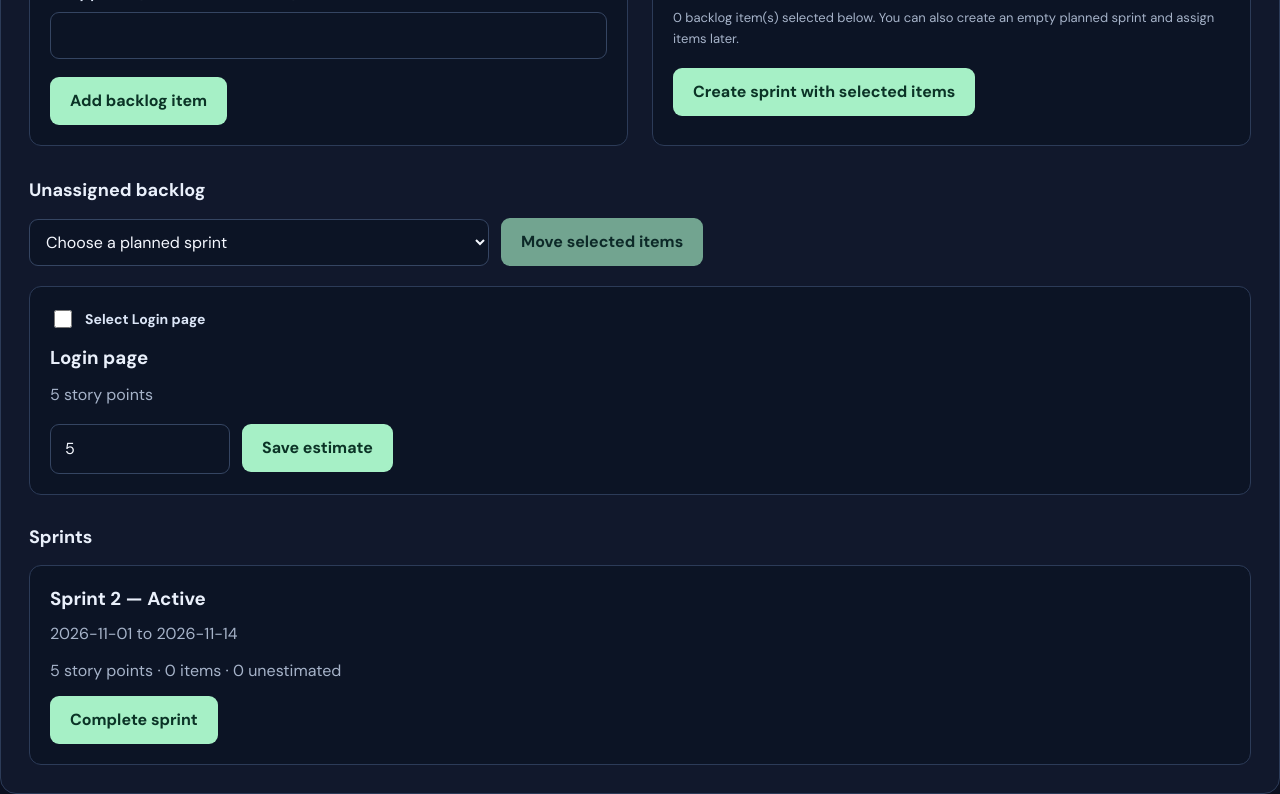
completes an active sprint after confirmation and refreshes its frozen total
The width and height of the screenshot is (1280, 794).
(page scrolled)
Click the button "Complete sprint": (134, 720) [50, 696, 218, 744]
(page scrolled)
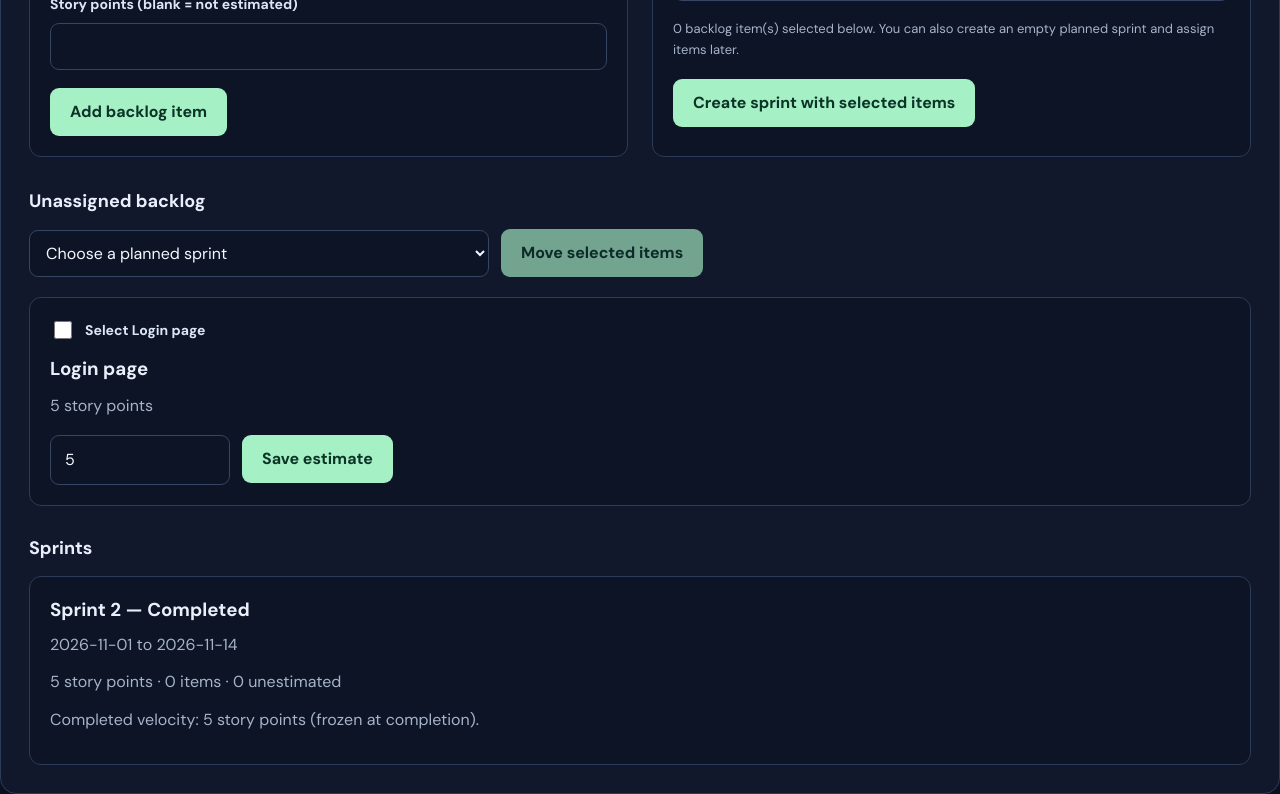
Now the heading "Sprint 2 — Completed" is shown, box [50, 597, 250, 622]
Now the button "Complete sprint" is gone
